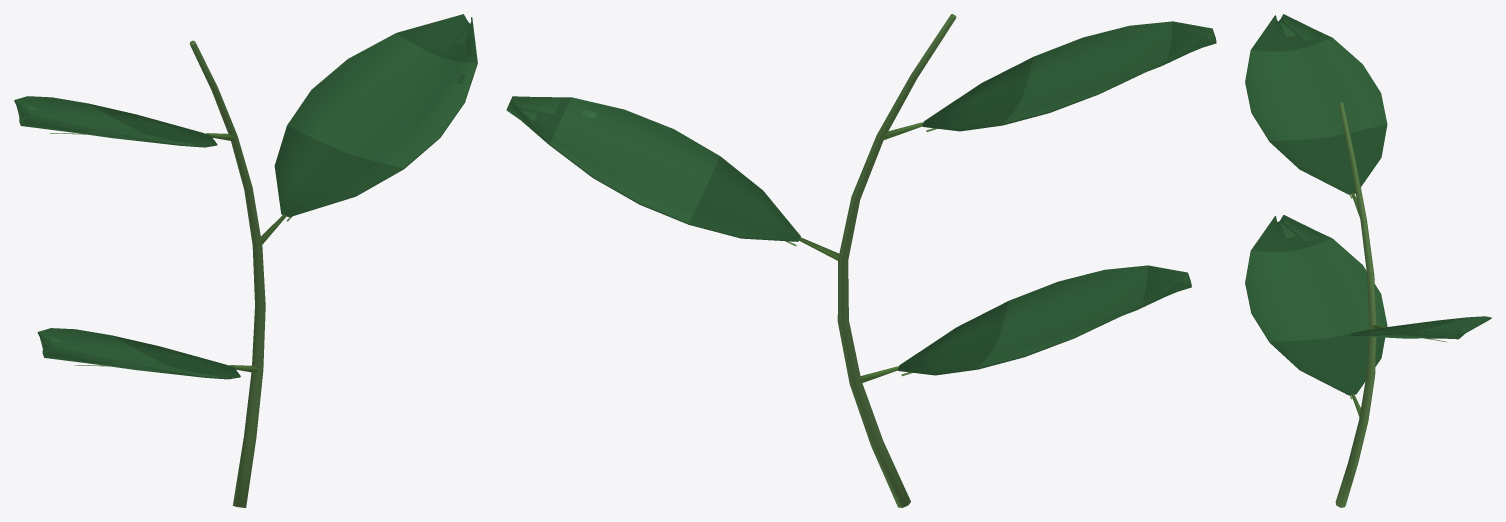
Rendered from garden-orchid-bud-stem-3.glb.
The picture shows the model from 3 angles, left to right: view 1: azimuth 30°, elevation 25°; view 2: azimuth 150°, elevation 25°; view 3: azimuth 270°, elevation 25°; orthographic projection. The views are drawn at different scales.
Parts seen in each view (by area): view 1: orchid-bud-stem-3; view 2: orchid-bud-stem-3; view 3: orchid-bud-stem-3.
Part boxes in pixels (x1,y1,x2,y2): orchid-bud-stem-3: (14, 14, 477, 507); orchid-bud-stem-3: (506, 14, 1216, 507); orchid-bud-stem-3: (1245, 14, 1491, 507).
Bounding box in the file's own units: 0.6542 × 0.5398 × 0.3085.
